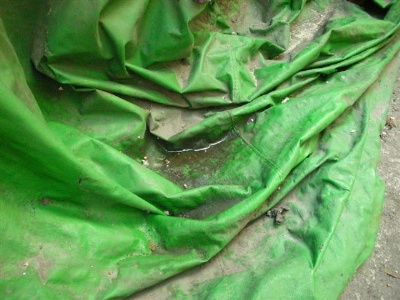plastic_bag: (1, 1, 382, 282)
